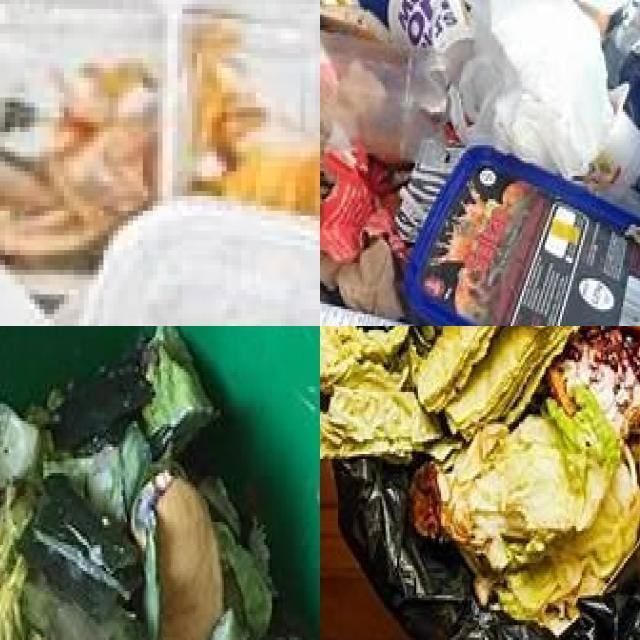Disposable: (81, 197, 320, 326)
Garbage: (320, 0, 640, 326), (320, 326, 640, 640), (0, 326, 274, 640)
Plastic_Container: (403, 142, 640, 326)
Plastic_bottle: (320, 30, 454, 169)
Plastic_wraper: (320, 146, 399, 265), (574, 0, 640, 135)
